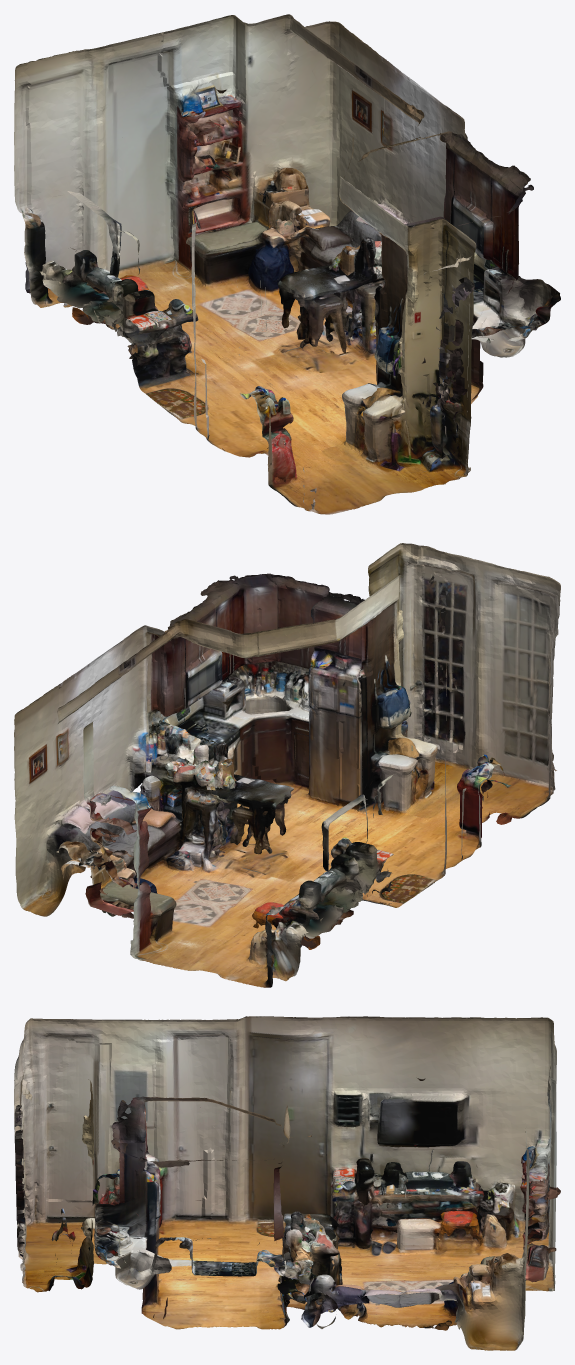
The picture shows the model from 3 angles, top to bottom: view 1: azimuth 30°, elevation 25°; view 2: azimuth 150°, elevation 25°; view 3: azimuth 270°, elevation 25°; orthographic projection. The views are drawn at different scales.
Size of the model in its own units: 3.88 by 2.75 by 6.54.
Materials: 3 (3 with a texture image).
